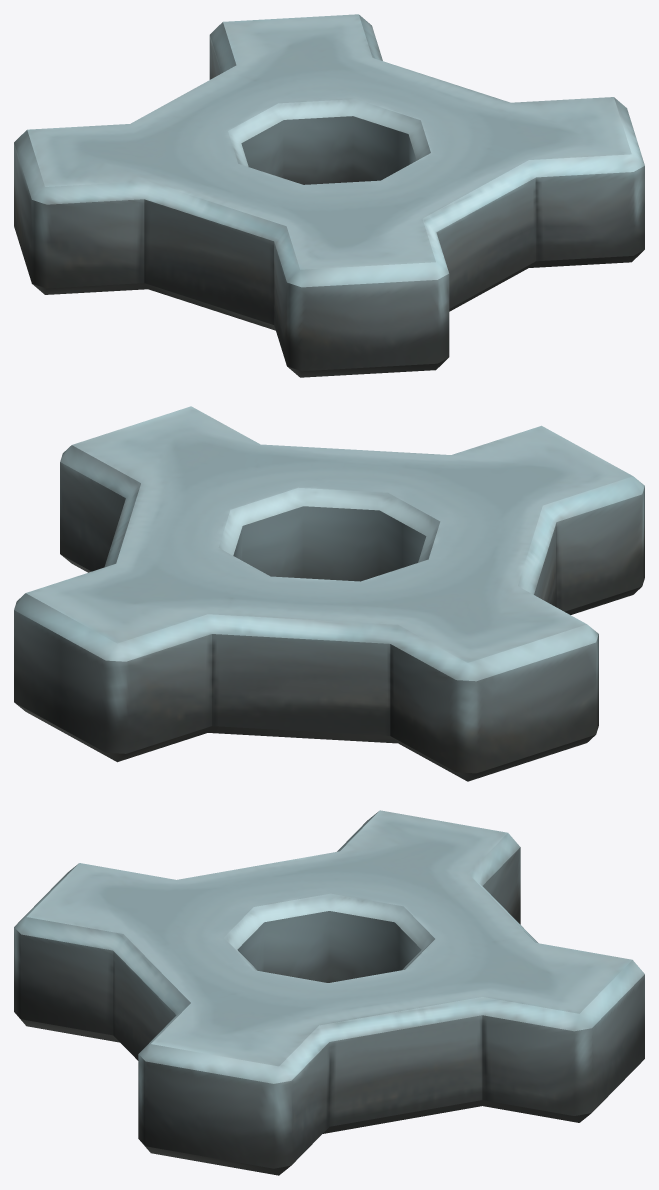
File: Wooden_Robot_Part2.fbx
3 renders of one model, top to bottom at view 1: azimuth 30°, elevation 25°; view 2: azimuth 150°, elevation 25°; view 3: azimuth 270°, elevation 25°, orthographic. The views are drawn at different scales.
Visible parts, largest first — view 1: Wooden_Robot_Part2; view 2: Wooden_Robot_Part2; view 3: Wooden_Robot_Part2.
Boxes of the visible parts, x1,y1,x2,y2 form: Wooden_Robot_Part2: (14,14,644,377); Wooden_Robot_Part2: (14,406,644,781); Wooden_Robot_Part2: (14,810,644,1175).
Bounding box in the file's own units: 0.2134 × 1.12 × 1.12.
